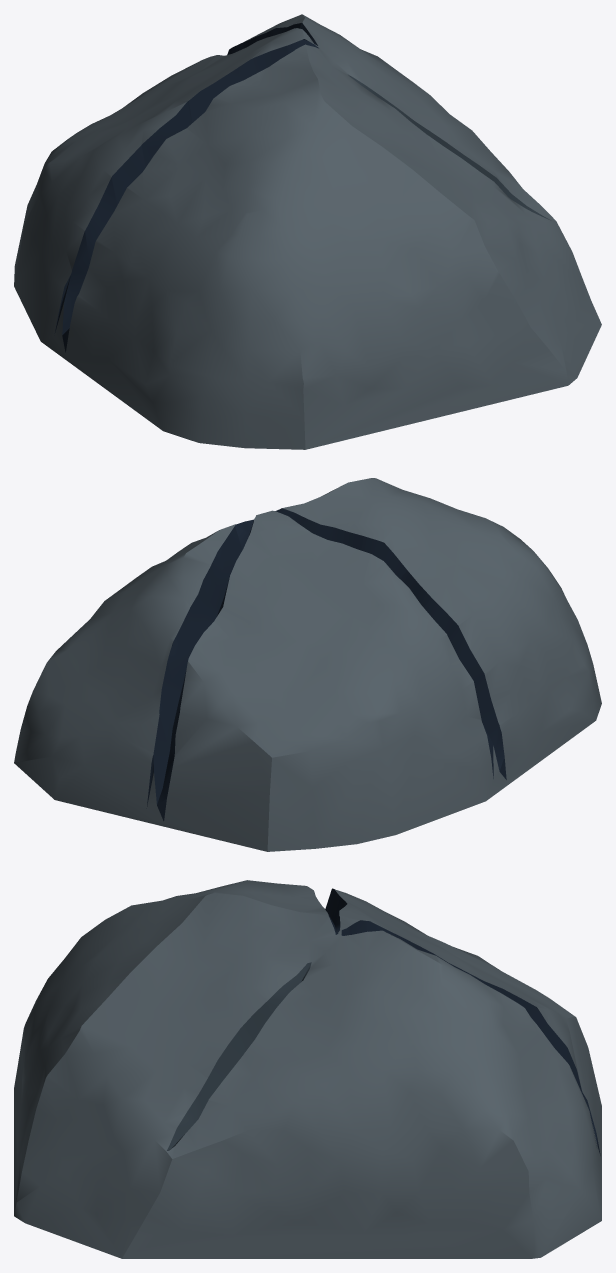
Rendered from pebble_c.glb.
3 renders of one model, top to bottom at view 1: azimuth 30°, elevation 25°; view 2: azimuth 150°, elevation 25°; view 3: azimuth 270°, elevation 25°, orthographic. The views are drawn at different scales.
Visible parts, largest first — view 1: pebble_c; view 2: pebble_c; view 3: pebble_c.
Part boxes in pixels (x1,y1,x2,y2): pebble_c: [14, 14, 601, 449]; pebble_c: [14, 478, 601, 851]; pebble_c: [14, 880, 601, 1258].
Bounding box in the file's own units: 12 × 6.69 × 14.
